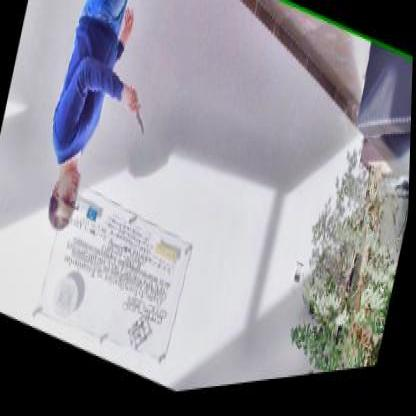knife: (121, 83, 154, 144)
